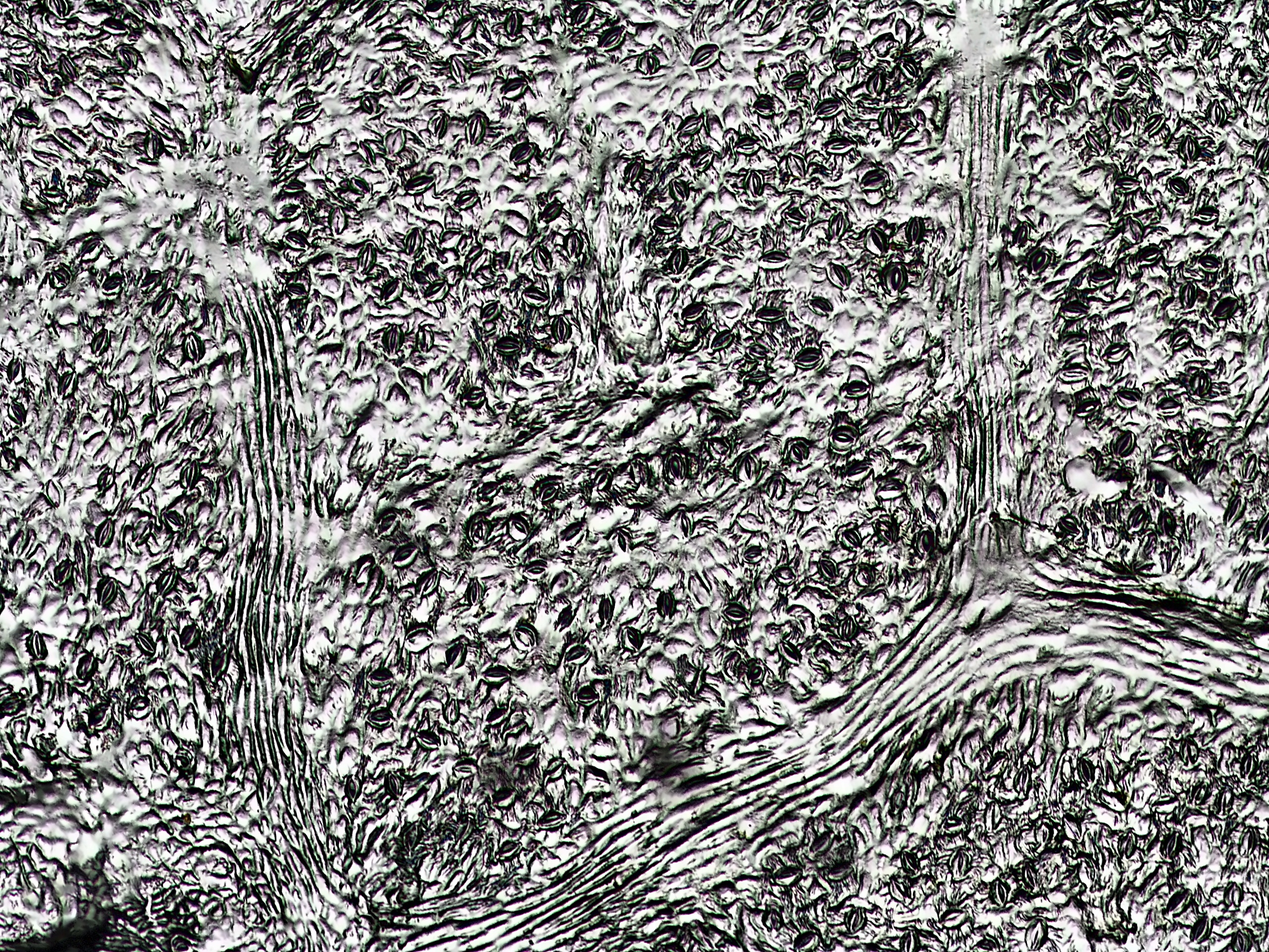stomata: (947, 849, 977, 880), (883, 261, 909, 296), (663, 451, 689, 486), (464, 111, 490, 145), (1165, 889, 1194, 919), (510, 623, 539, 652), (451, 14, 479, 44), (1026, 917, 1050, 952), (759, 4, 786, 34), (207, 646, 230, 681), (188, 413, 213, 445), (88, 702, 115, 731), (404, 626, 434, 652), (826, 260, 852, 290), (538, 199, 566, 226), (887, 876, 914, 904), (874, 479, 911, 499), (1225, 493, 1246, 528), (874, 515, 899, 544), (13, 104, 43, 128), (89, 115, 119, 139), (758, 249, 792, 270), (152, 289, 175, 320), (133, 464, 156, 495), (1059, 301, 1090, 324), (622, 156, 647, 184), (1177, 134, 1201, 163), (404, 173, 434, 196), (481, 664, 512, 686), (452, 187, 478, 213), (832, 426, 858, 452), (877, 107, 900, 136), (557, 520, 586, 543), (1222, 882, 1245, 911), (469, 516, 491, 546), (367, 707, 397, 729), (709, 220, 734, 246), (374, 510, 399, 536), (1212, 296, 1239, 320), (824, 136, 858, 155), (139, 132, 162, 160), (692, 44, 715, 72), (1116, 830, 1139, 858), (381, 324, 401, 356), (552, 314, 572, 346), (675, 509, 695, 541), (792, 349, 824, 369), (1012, 764, 1032, 796), (983, 800, 1003, 832), (1102, 341, 1131, 363), (90, 328, 111, 358), (376, 32, 409, 51), (1142, 110, 1166, 136), (354, 559, 377, 586), (416, 570, 439, 597), (1049, 81, 1076, 104), (779, 638, 802, 665), (1076, 857, 1096, 888), (507, 143, 535, 165), (861, 169, 889, 191), (845, 460, 873, 482), (599, 593, 617, 627), (415, 324, 436, 353), (366, 667, 395, 688), (315, 48, 339, 73), (395, 76, 420, 100), (599, 28, 624, 52), (565, 230, 585, 260), (906, 216, 926, 246), (79, 236, 103, 261), (184, 331, 204, 361), (1167, 29, 1187, 59), (1179, 737, 1199, 767), (1239, 827, 1259, 857), (506, 516, 532, 539), (897, 926, 920, 952), (358, 241, 375, 276), (736, 453, 758, 480), (838, 615, 860, 642), (773, 865, 800, 887), (1058, 364, 1089, 383), (991, 876, 1010, 907), (504, 10, 525, 38), (77, 653, 98, 681), (845, 906, 866, 934), (1192, 916, 1213, 944), (156, 568, 176, 597), (916, 528, 936, 557), (403, 822, 421, 854), (537, 811, 569, 829), (1088, 3, 1112, 27), (8, 64, 31, 89), (637, 50, 660, 75), (128, 696, 153, 719), (543, 756, 568, 779), (1061, 815, 1084, 840), (381, 278, 403, 304), (808, 294, 834, 316), (1113, 430, 1135, 456), (723, 602, 749, 624), (941, 907, 967, 929), (1160, 832, 1182, 858), (832, 50, 862, 69), (6, 37, 33, 58), (494, 335, 521, 356), (26, 631, 47, 658), (58, 55, 78, 83), (521, 287, 549, 307), (59, 370, 79, 398), (771, 566, 799, 586), (449, 55, 467, 86), (536, 479, 560, 502), (417, 727, 441, 750), (868, 226, 887, 255), (180, 460, 199, 489), (344, 775, 363, 804), (1209, 98, 1228, 127), (502, 79, 527, 101), (565, 643, 590, 665), (1141, 0, 1163, 25), (760, 906, 782, 931), (900, 847, 922, 872), (573, 2, 594, 28), (491, 787, 517, 808), (630, 458, 651, 484), (792, 931, 818, 952), (102, 16, 129, 36), (535, 244, 553, 274), (6, 358, 26, 385), (98, 578, 118, 605), (611, 529, 631, 556), (1137, 246, 1164, 266), (826, 865, 856, 883), (668, 247, 687, 275), (744, 169, 763, 197), (44, 479, 63, 507), (385, 771, 404, 799), (766, 475, 785, 503), (692, 148, 714, 172), (49, 265, 71, 289), (754, 305, 785, 322), (41, 185, 66, 206), (0, 693, 25, 714), (453, 758, 478, 779), (514, 742, 539, 763), (555, 605, 576, 630), (1115, 389, 1140, 410), (328, 207, 346, 236), (813, 100, 842, 118), (150, 383, 168, 412), (95, 518, 113, 547), (447, 641, 465, 670), (1152, 445, 1181, 463), (1130, 504, 1148, 533), (385, 127, 405, 153), (655, 214, 681, 234), (1191, 370, 1211, 396), (1075, 755, 1095, 781), (1113, 104, 1132, 131), (1159, 511, 1178, 538), (1152, 794, 1179, 813), (292, 106, 322, 123), (754, 93, 776, 116), (394, 544, 417, 566), (840, 528, 863, 550), (985, 753, 1007, 776), (431, 112, 449, 140), (463, 384, 484, 408), (658, 591, 676, 619), (1157, 398, 1185, 416), (48, 0, 73, 20), (116, 45, 136, 70), (484, 705, 509, 725), (1112, 64, 1137, 84), (1076, 398, 1101, 418), (403, 228, 422, 254), (670, 178, 689, 204), (681, 303, 707, 322), (677, 116, 703, 135), (53, 559, 72, 585), (495, 838, 521, 857), (867, 71, 885, 98), (734, 137, 761, 155), (443, 697, 461, 724), (1179, 281, 1197, 308), (7, 401, 29, 423), (271, 145, 292, 168), (439, 229, 462, 250), (480, 299, 501, 322), (711, 328, 732, 351), (816, 559, 839, 580), (477, 481, 501, 501), (576, 686, 600, 706), (783, 71, 808, 90), (1202, 35, 1221, 60), (742, 545, 767, 564), (1022, 863, 1041, 888), (789, 152, 807, 178), (782, 206, 808, 224), (2, 445, 20, 471), (842, 382, 871, 398), (1242, 453, 1258, 482), (135, 633, 157, 654), (788, 440, 809, 462), (1167, 176, 1189, 197), (1169, 331, 1191, 352), (808, 834, 830, 855), (1231, 930, 1252, 952), (174, 749, 195, 771), (898, 59, 921, 79), (746, 659, 766, 682), (111, 391, 128, 418), (1114, 177, 1141, 194), (806, 3, 830, 22), (523, 560, 547, 579), (1058, 515, 1082, 534), (1191, 781, 1210, 805), (1127, 214, 1143, 242), (84, 170, 110, 187), (623, 625, 640, 651), (103, 275, 124, 296), (709, 436, 730, 457), (852, 567, 873, 588), (473, 267, 496, 286), (1031, 251, 1050, 274), (467, 578, 482, 607), (286, 283, 310, 301), (276, 205, 301, 222), (425, 281, 445, 302), (594, 469, 613, 491), (360, 140, 376, 166), (1013, 222, 1029, 248), (1243, 753, 1259, 779), (423, 0, 446, 18), (181, 626, 199, 649), (284, 232, 308, 249), (831, 212, 847, 237), (361, 95, 380, 116), (350, 175, 371, 194), (163, 512, 184, 531), (142, 270, 160, 292), (98, 467, 113, 493), (1090, 269, 1116, 284), (1036, 820, 1052, 844), (1200, 255, 1221, 273), (283, 178, 306, 194), (1186, 0, 1206, 18), (1063, 46, 1084, 63), (943, 814, 964, 831), (1195, 208, 1218, 223), (749, 342, 767, 360), (366, 66, 383, 85)
